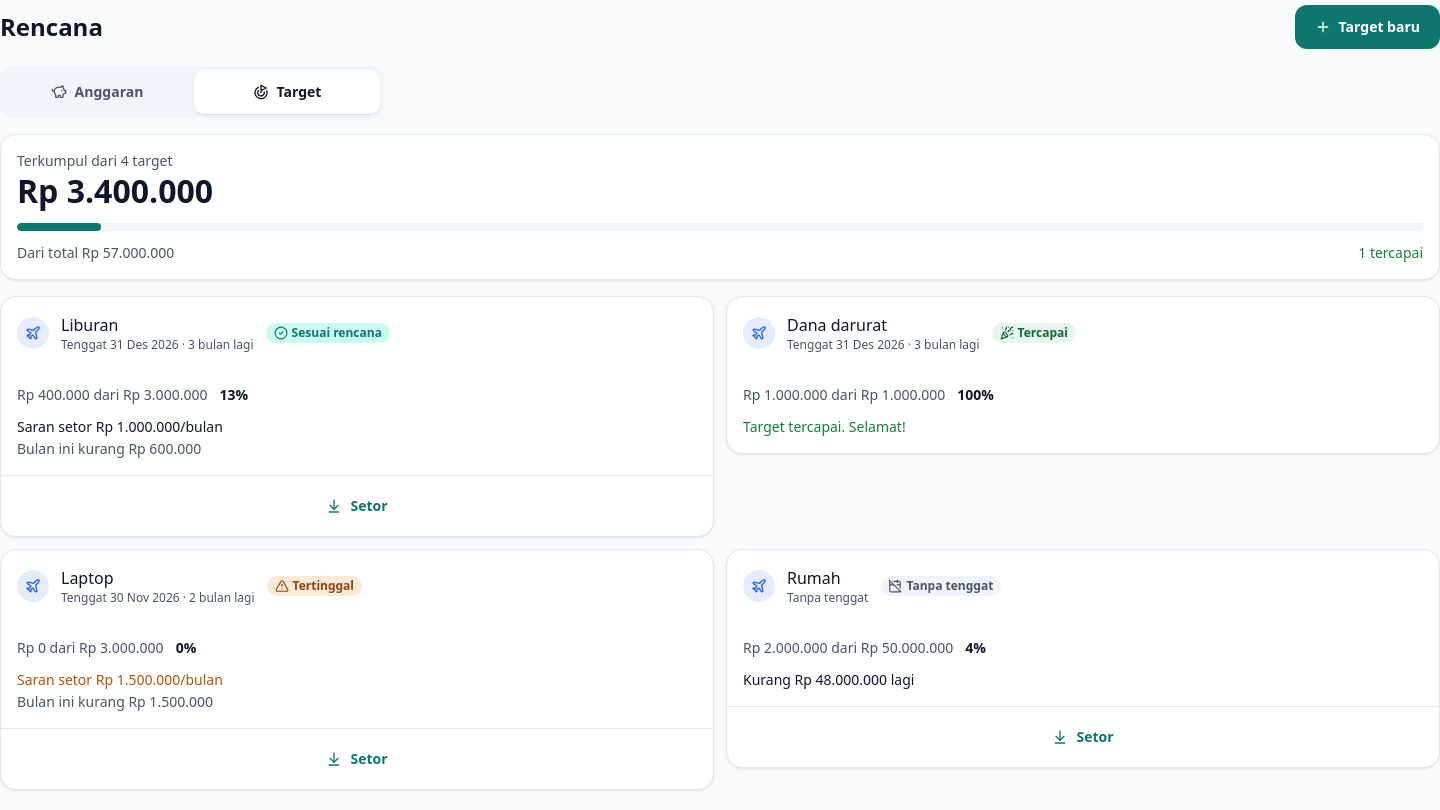
Test: GoalsPage › hapus target langsung dari detail, dengan info uang yang tersisa di dompet tabungan
Click the button with aria-label "Lihat target Liburan": {"x": 33, "y": 333} [1,297,713,475]
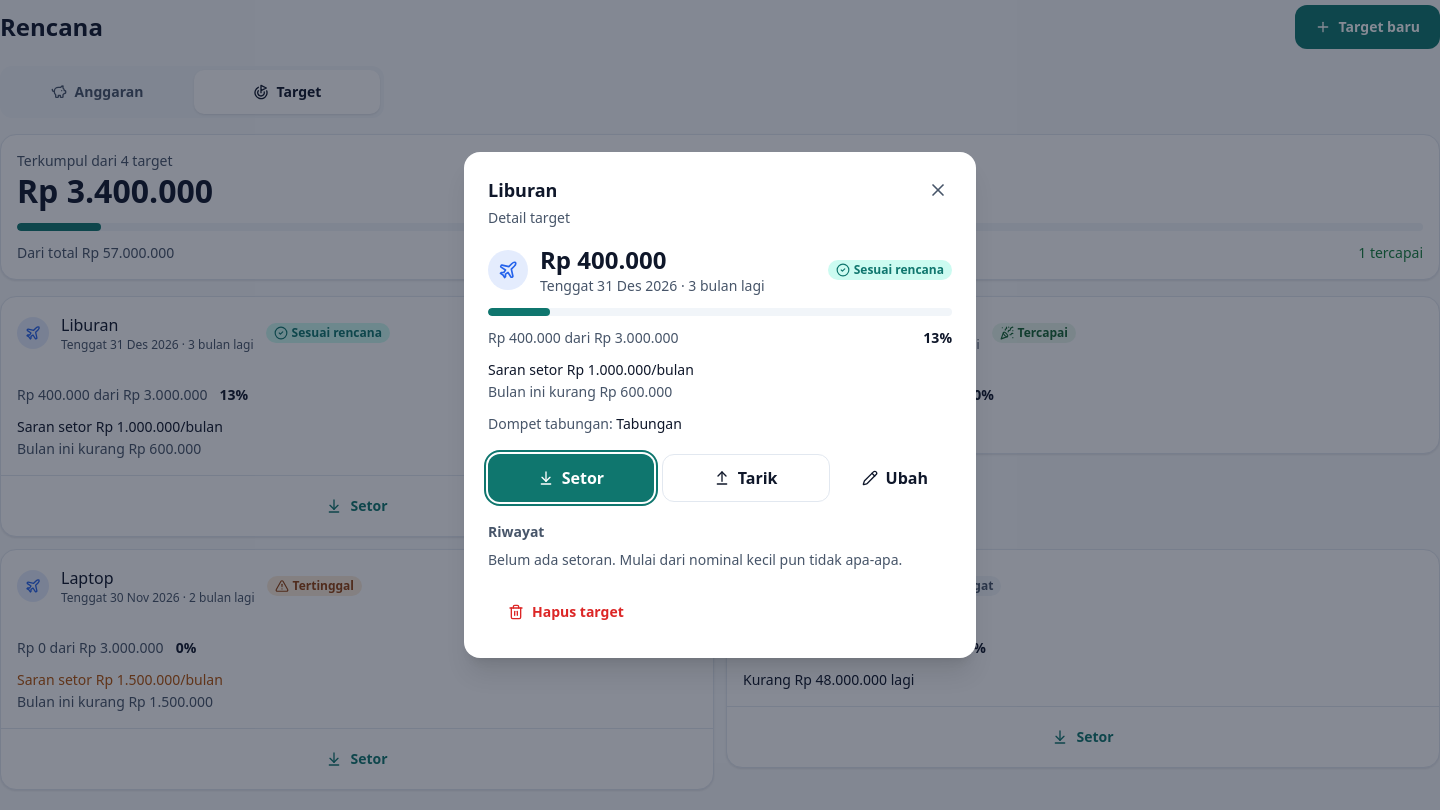
Click the button "Hapus target": {"x": 566, "y": 612} [488,590,644,634]
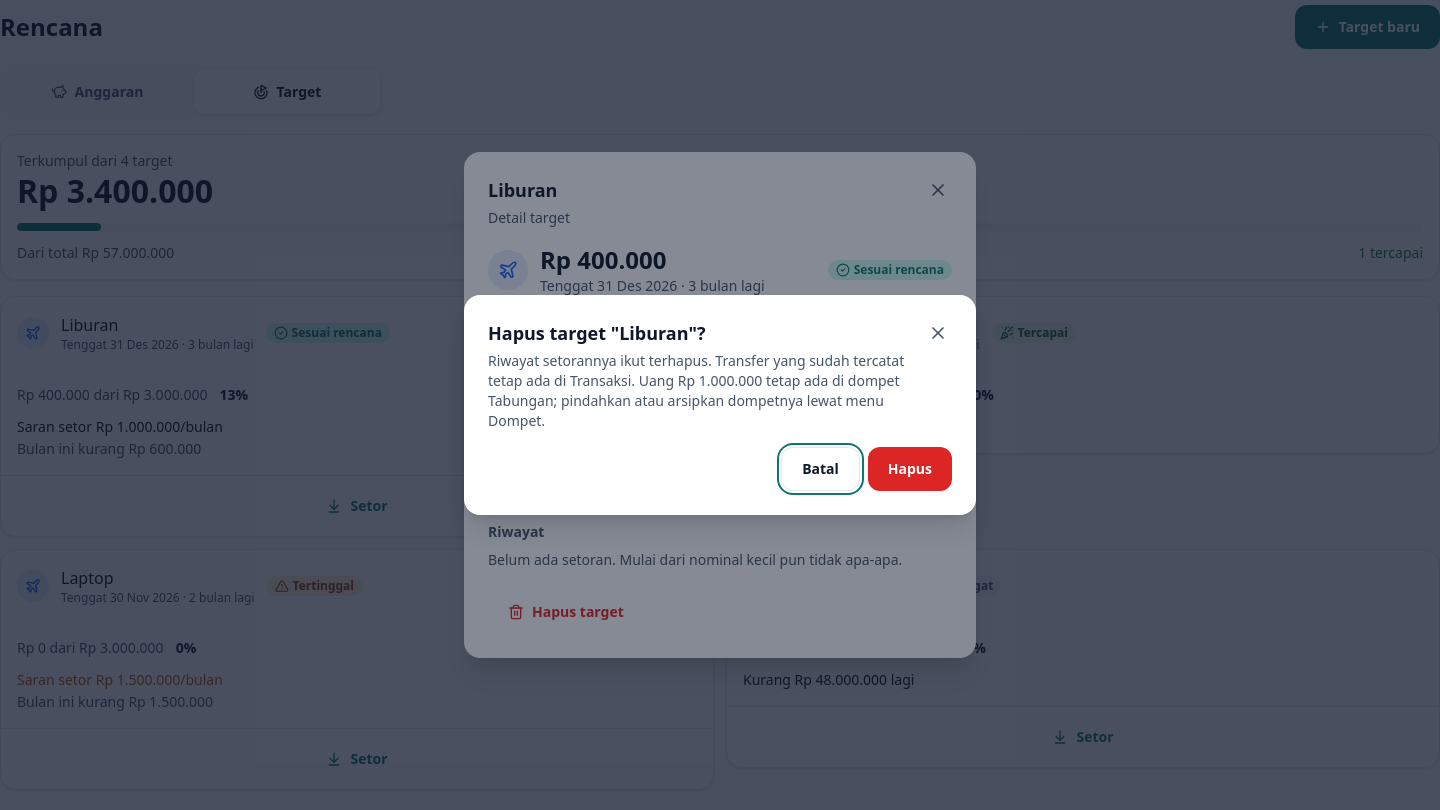
Click the button "Hapus": {"x": 910, "y": 469} [868,447,952,491]
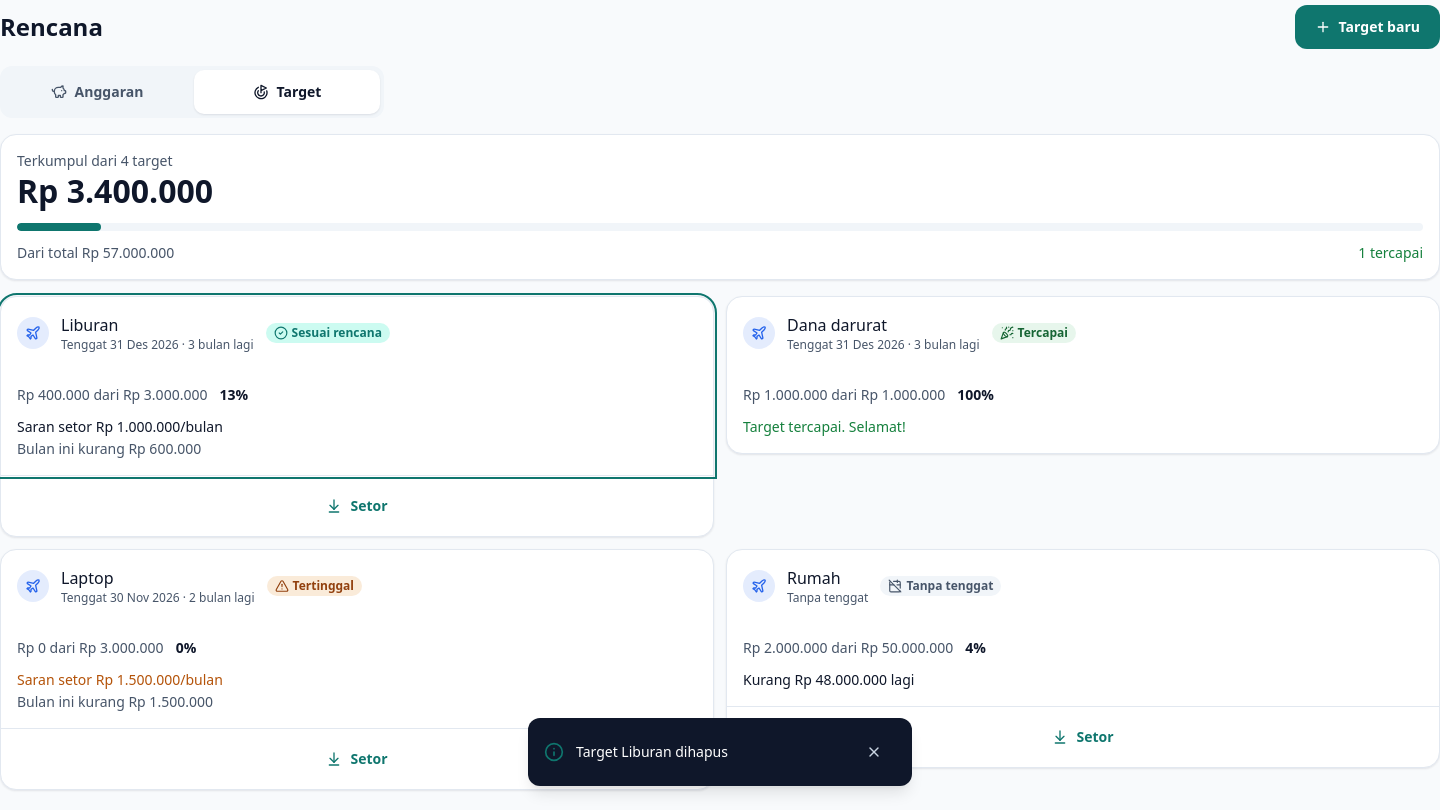
expect the text "Target Liburan dihapus" is shown: met, box [576,742,728,761]
